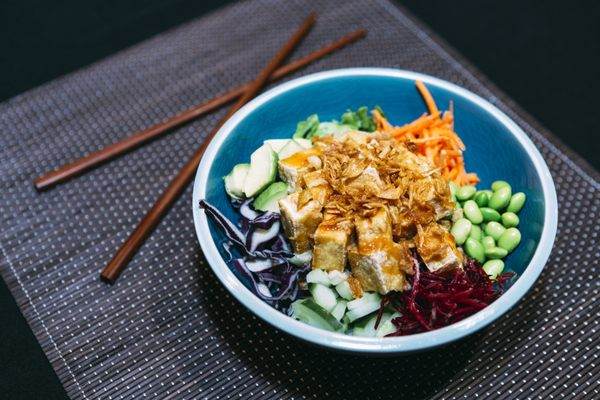sushi: (194, 67, 559, 356)
